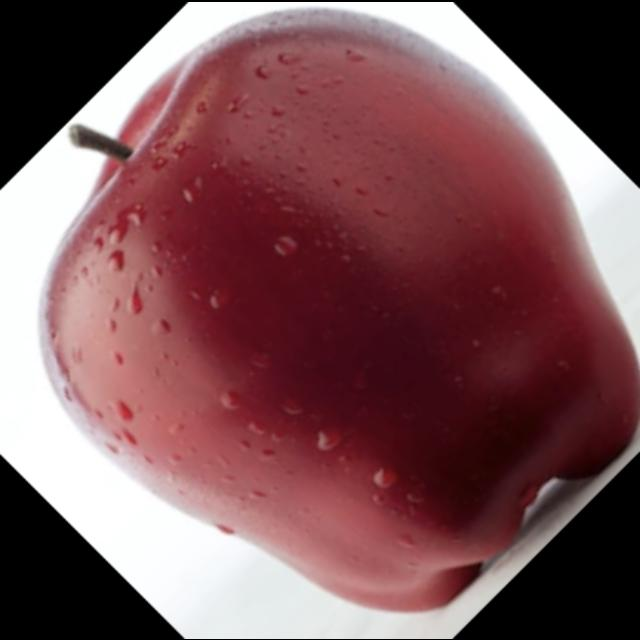Apel Segar: (26, 1, 640, 623)
